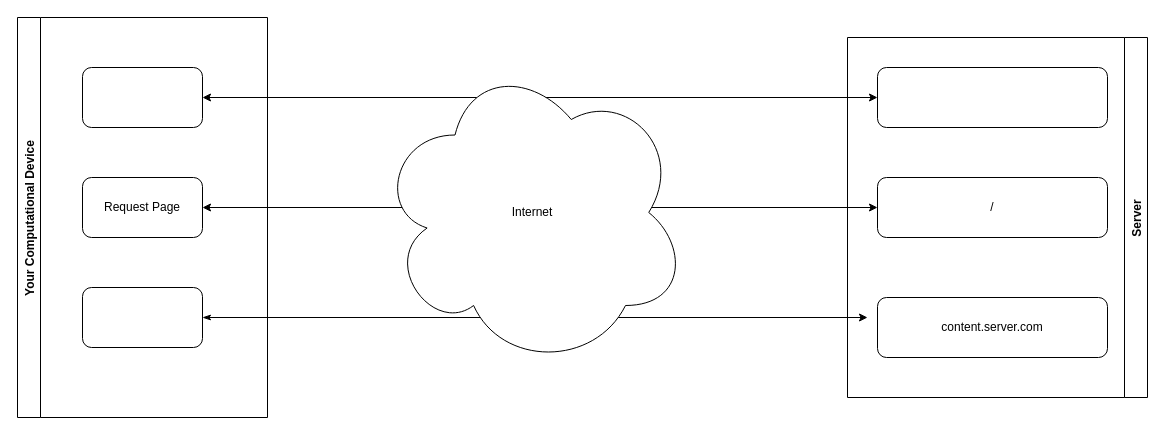
The diagram is 1165 pixels wide and 435 high, and some of its shapes have lost their labels. Each missing label, with the centre of its shape:
/apis: (x=992, y=97)
Request API: (x=142, y=97)
Request Image/Script/etc: (x=142, y=317)
